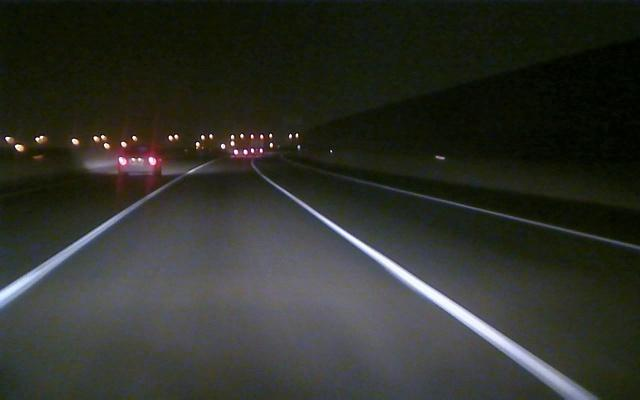lane: (268, 182, 596, 396), (359, 177, 640, 252), (2, 189, 160, 308)
